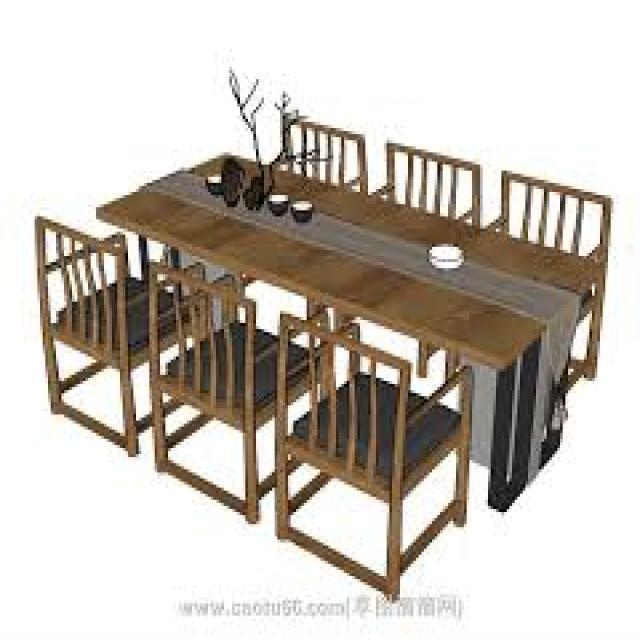table: (21, 105, 618, 612)
